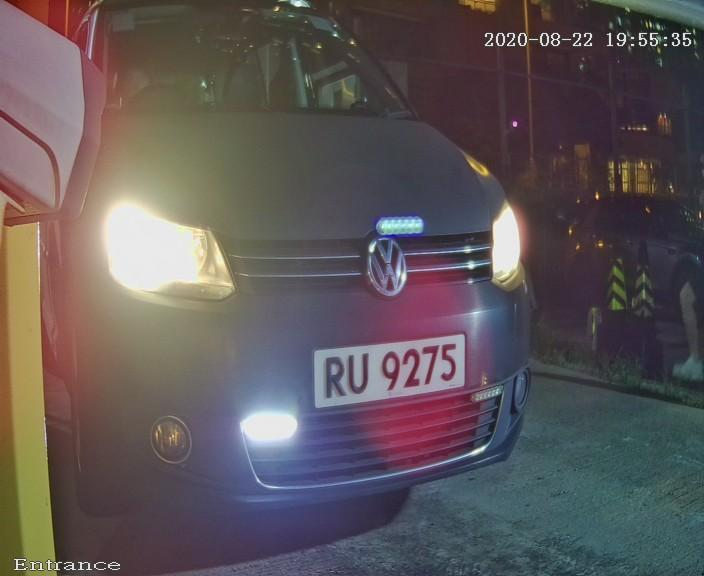Car: (23, 13, 560, 576)
License Plate: (275, 310, 520, 430)
